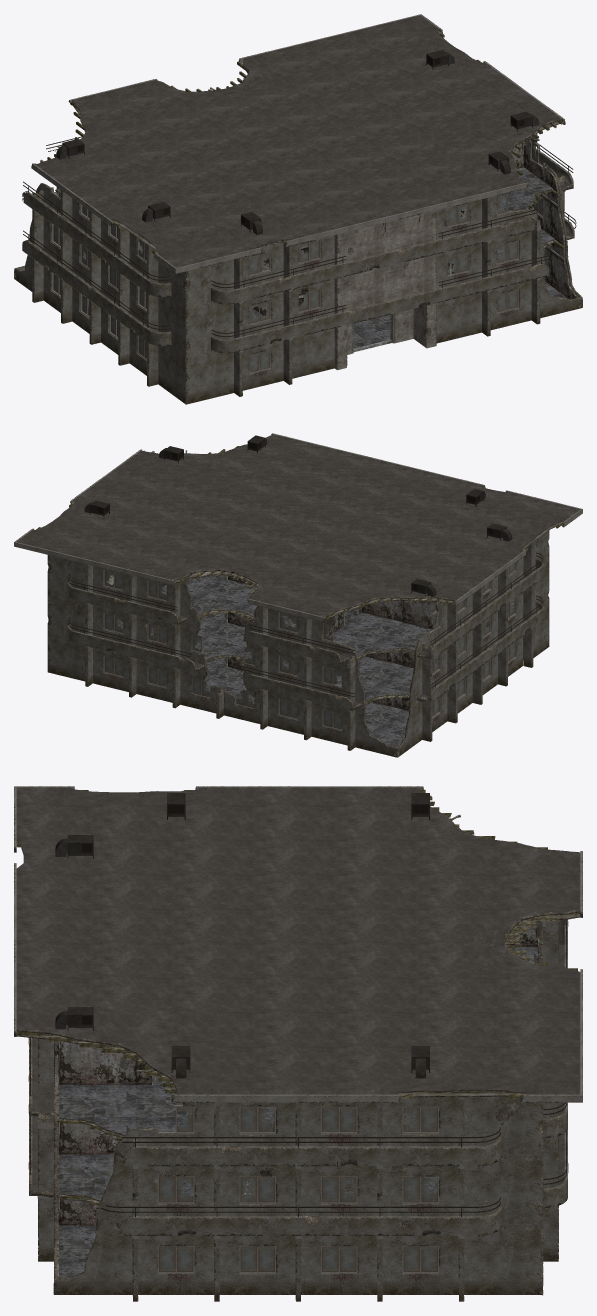
The model's file is apartmentpre03.obj.
3 views of the same model, one above another, from view 1: azimuth 30°, elevation 25°; view 2: azimuth 150°, elevation 25°; view 3: azimuth 270°, elevation 25° (orthographic). The views are drawn at different scales.
Parts seen in each view (by area): view 1: ApartmentPre03:0, ApartmentPre03d:0, ApartmentPre03g:0, ApartmentPre03c:0; view 2: ApartmentPre03:0, ApartmentPre03g:0, ApartmentPre03d:0, ApartmentPre03c:0; view 3: ApartmentPre03:0, ApartmentPre03g:0, ApartmentPre03d:0, ApartmentPre03c:0.
Part boxes in pixels (left/top/right/bottom): ApartmentPre03:0: left=14, top=14, right=582, bottom=404; ApartmentPre03d:0: left=14, top=18, right=582, bottom=404; ApartmentPre03g:0: left=22, top=30, right=577, bottom=351; ApartmentPre03c:0: left=53, top=142, right=542, bottom=372; ApartmentPre03:0: left=14, top=433, right=582, bottom=757; ApartmentPre03g:0: left=36, top=446, right=562, bottom=747; ApartmentPre03d:0: left=19, top=433, right=577, bottom=757; ApartmentPre03c:0: left=105, top=563, right=515, bottom=729; ApartmentPre03:0: left=14, top=786, right=582, bottom=1301; ApartmentPre03g:0: left=17, top=790, right=580, bottom=1278; ApartmentPre03d:0: left=14, top=786, right=582, bottom=1301; ApartmentPre03c:0: left=159, top=1107, right=437, bottom=1271.
Bounding box in the file's own units: 230 × 80.53 × 179.
Materials: 5 (5 with a texture image).
